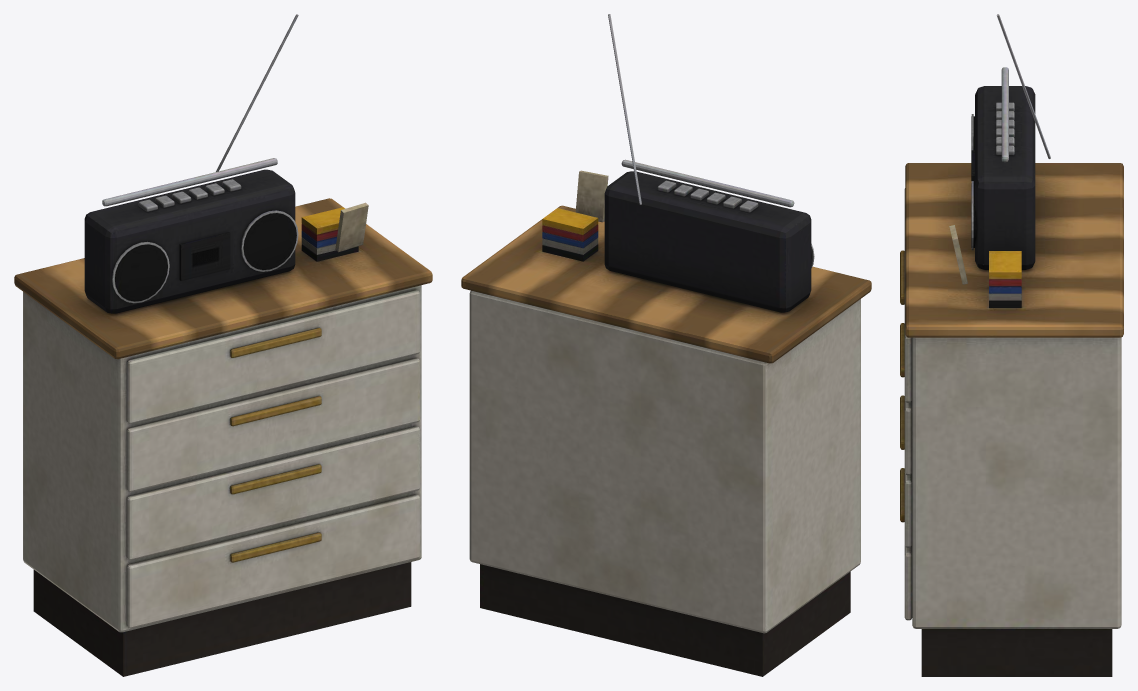
Rendered from sz_kommode.glb.
3 views of the same model, side by side, from view 1: azimuth 30°, elevation 25°; view 2: azimuth 150°, elevation 25°; view 3: azimuth 270°, elevation 25° (orthographic). The views are drawn at different scales.
Visible parts, largest first — view 1: sz_kommode; view 2: sz_kommode; view 3: sz_kommode.
Part boxes in pixels (box(x1,y1,x2,y2)): sz_kommode: box(14, 14, 432, 676); sz_kommode: box(461, 14, 871, 676); sz_kommode: box(900, 14, 1123, 676).
Size of the model in its own units: 0.84 by 1.48 by 0.481.
1 material, 1 textured.
